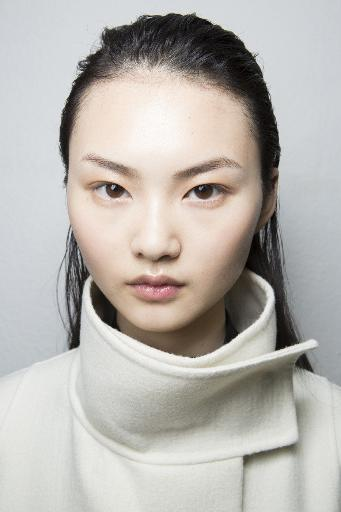left_eye: (182, 181, 233, 210)
left_lip_corner: (180, 279, 193, 295)
right_eye: (87, 182, 134, 209)
right_lip_corner: (124, 280, 136, 296)
